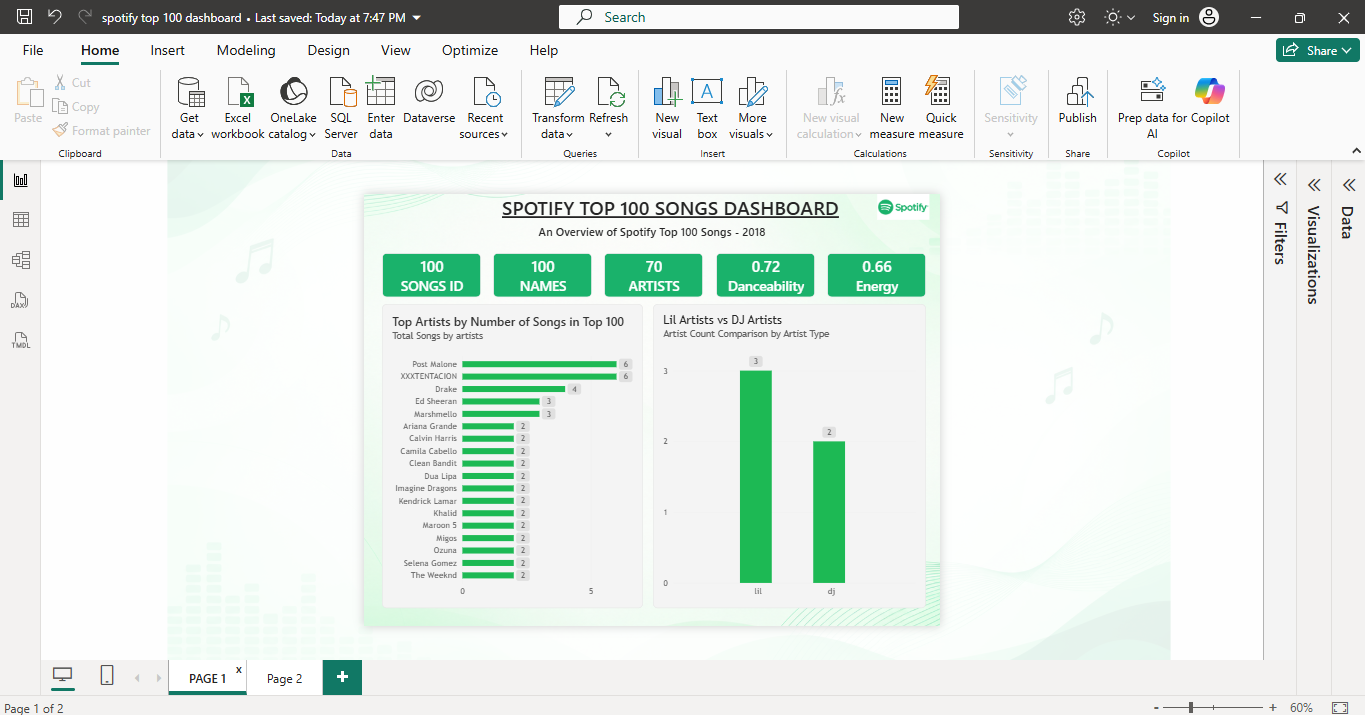

Layout of this report page (visuals, bound fields, positions):
{"tool":"powerbi","page":{"name":"PAGE 1","canvas":[960,720],"ordinal":0},"visuals":[{"type":"textbox","box":[230,0,582,58],"z":0},{"type":"image","box":[839.1,0,120.9,43.3],"z":1000},{"type":"cardVisual","fields":{"Data":["Count(top2018.id)"]},"box":[29.9,98.5,165,74.6],"z":2000},{"type":"cardVisual","fields":{"Data":["Count(top2018.artists)"]},"box":[400.7,98.5,165,74.6],"z":3000},{"type":"cardVisual","fields":{"Data":["Avg(top2018.danceability)"]},"box":[586.2,98.5,165,74.6],"z":4000},{"type":"cardVisual","fields":{"Data":["Avg(top2018.energy)"]},"box":[771.6,98.5,165,74.6],"z":5000},{"type":"cardVisual","fields":{"Data":["Count(top2018.name)"]},"box":[215.3,98.5,165,74.6],"z":6000},{"type":"clusteredBarChart","title":"Top Artists by Number of Songs in Top 100","fields":{"Category":["top2018.artists"],"Y":["top2018.Total Songs"]},"box":[30.2,182.9,434.9,506.9],"z":7000},{"type":"columnChart","title":"Lil Artists vs DJ Artists","fields":{"Category":["Table.Artist Type"],"Y":["Table.Artist Count Comparison"]},"box":[481,182.9,455,506.9],"z":8000},{"type":"textbox","box":[269.9,50.5,420.2,36.4],"z":9000}]}

Visuals, with their boxes on the page's 960x720 design canvas (x1, y1, x2, y2). These are canvas units, not pixel positions in the 1365x715 screenshot, which may show the page scaled, cropped or inside an application window:
textbox: {"x1": 230, "y1": 0, "x2": 812, "y2": 58}
image: {"x1": 839, "y1": 0, "x2": 960, "y2": 43}
cardVisual - Count(top2018.id): {"x1": 30, "y1": 98, "x2": 195, "y2": 173}
cardVisual - Count(top2018.artists): {"x1": 401, "y1": 98, "x2": 566, "y2": 173}
cardVisual - Avg(top2018.danceability): {"x1": 586, "y1": 98, "x2": 751, "y2": 173}
cardVisual - Avg(top2018.energy): {"x1": 772, "y1": 98, "x2": 937, "y2": 173}
cardVisual - Count(top2018.name): {"x1": 215, "y1": 98, "x2": 380, "y2": 173}
"Top Artists by Number of Songs in Top 100" clusteredBarChart: {"x1": 30, "y1": 183, "x2": 465, "y2": 690}
"Lil Artists vs DJ Artists" columnChart: {"x1": 481, "y1": 183, "x2": 936, "y2": 690}
textbox: {"x1": 270, "y1": 50, "x2": 690, "y2": 87}
